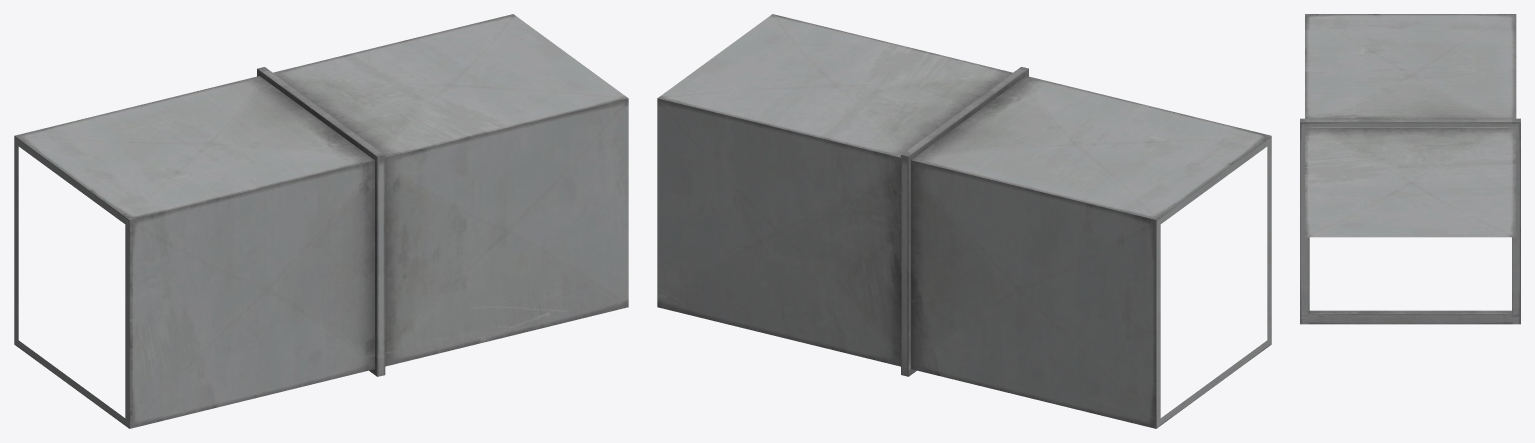
File: SM_Vent_Duct_16th_01.glb
3 renders of one model, left to right at view 1: azimuth 30°, elevation 25°; view 2: azimuth 150°, elevation 25°; view 3: azimuth 270°, elevation 25°, orthographic. The views are drawn at different scales.
Visible parts, largest first — view 1: SM_Vent_Duct_16th_01; view 2: SM_Vent_Duct_16th_01; view 3: SM_Vent_Duct_16th_01.
Boxes of the visible parts, x1,y1,x2,y2 form: SM_Vent_Duct_16th_01: [14, 14, 628, 428]; SM_Vent_Duct_16th_01: [657, 14, 1271, 428]; SM_Vent_Duct_16th_01: [1300, 14, 1520, 324].
Bounding box in the file's own units: 1 × 0.4216 × 0.4178.
Materials: 1 (1 with a texture image).
